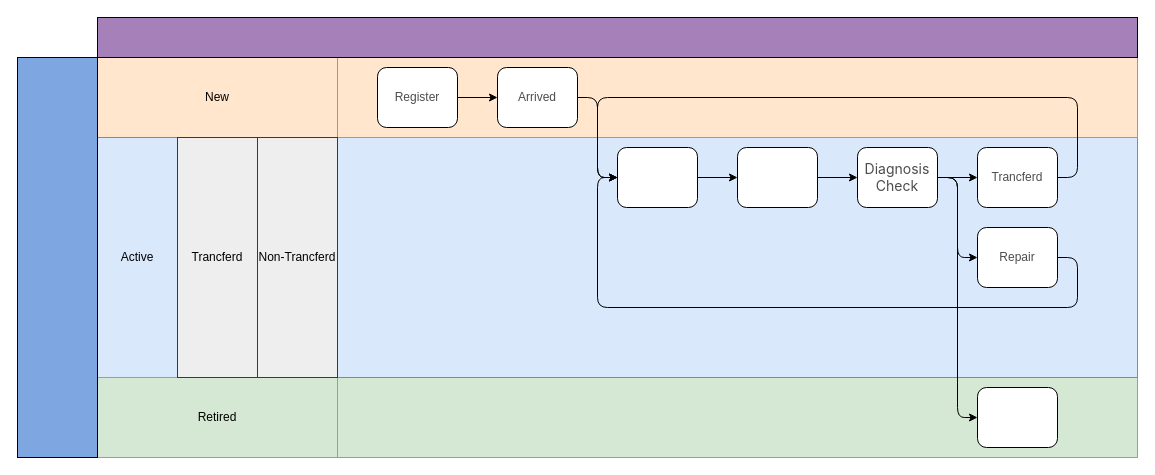
The diagram is 1155 pixels wide and 475 high, and some of its shapes have lost their labels. The shapes that lost their labels are listed below. From the top down, each one's box as (x1, y1, x2, y2) in pixels, then its label:
(96, 16, 1138, 58): Die Condition
(616, 146, 698, 208): Press
(736, 146, 818, 208): Inspection
(16, 56, 98, 458): Die Status
(976, 386, 1058, 448): Retire
